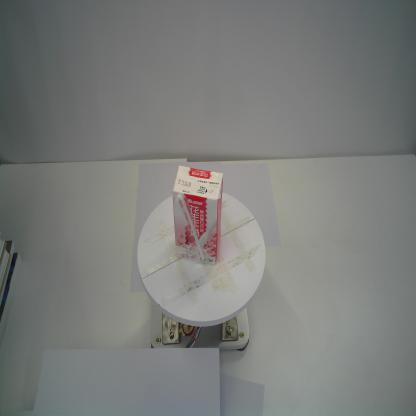Milk: (171, 164, 224, 266)
